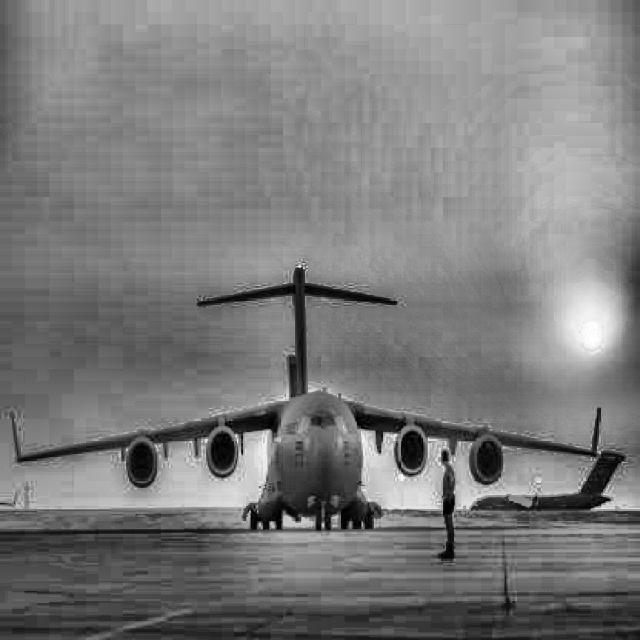C17: (11, 266, 600, 531), (470, 452, 632, 510)
